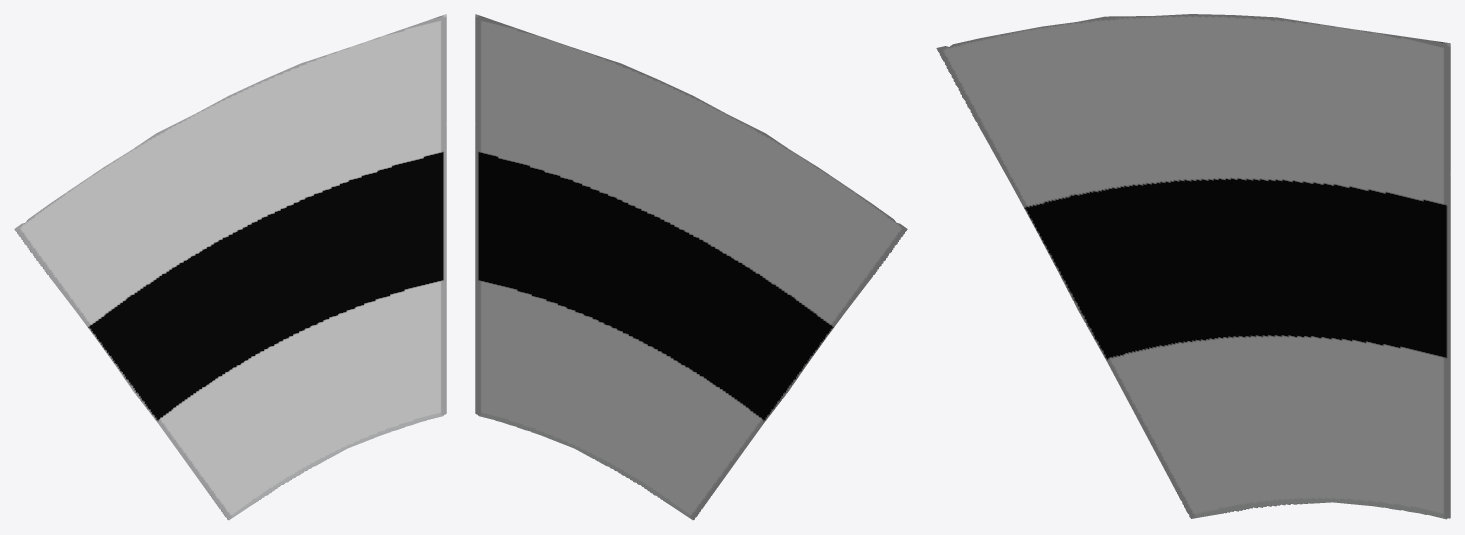
The model's file is Pista.obj.
The picture shows the model from 3 angles, left to right: view 1: azimuth 30°, elevation 25°; view 2: azimuth 150°, elevation 25°; view 3: azimuth 330°, elevation 25°; orthographic projection. The views are drawn at different scales.
Parts seen in each view (by area): view 1: Pista_Curva; view 2: Pista_Curva; view 3: Pista_Curva.
Boxes of the visible parts, <box> form: Pista_Curva: <box>14,14,446,520</box>; Pista_Curva: <box>475,14,907,520</box>; Pista_Curva: <box>936,14,1450,519</box>.
Bounding box in the file's own units: 0.1996 × 0.2 × 0.
